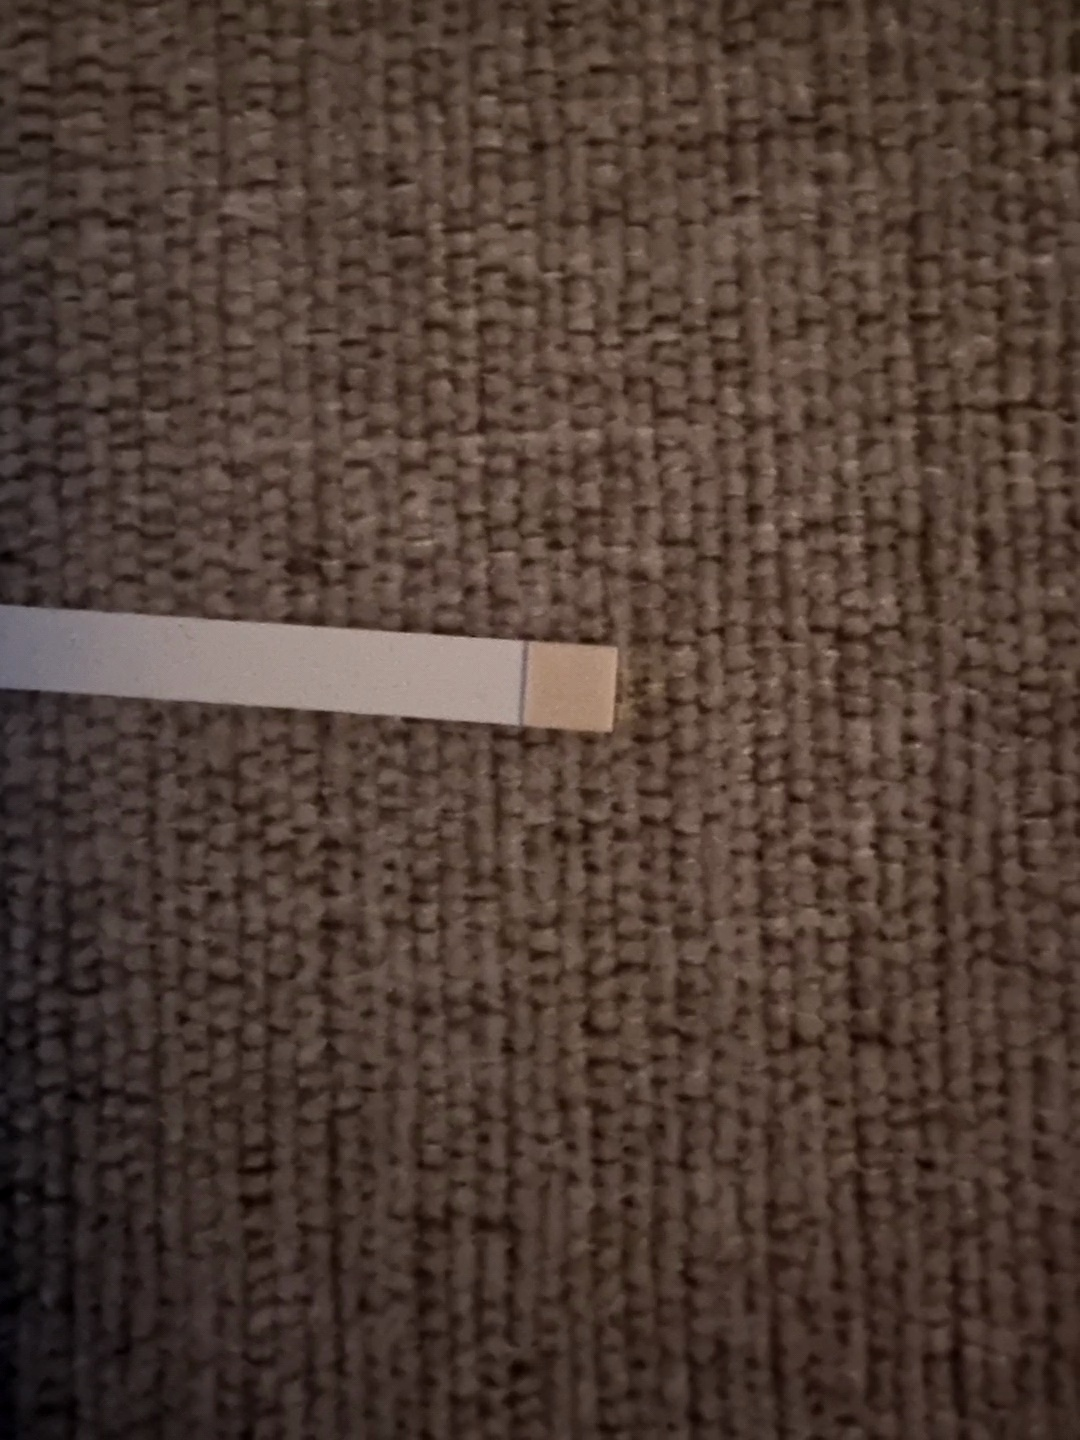keto-tip: (516, 634, 623, 739)
